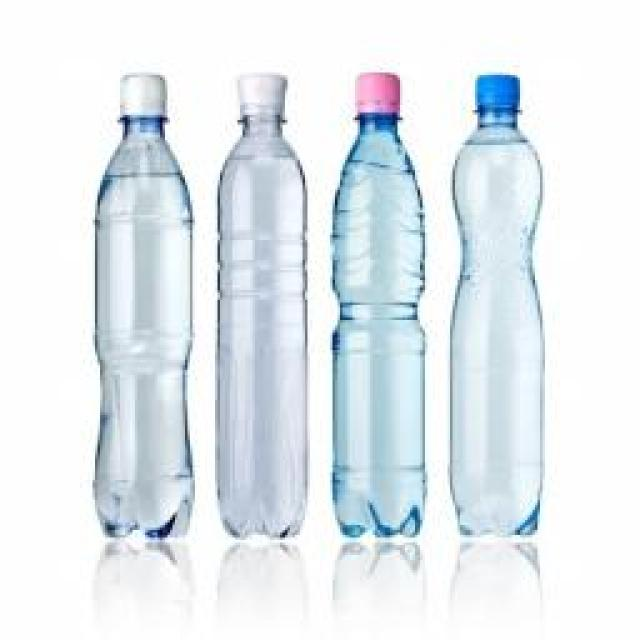bottle: (93, 72, 195, 543), (329, 73, 429, 540), (450, 72, 545, 538), (218, 72, 310, 538)
